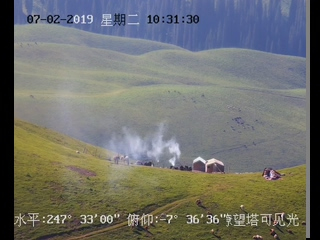smoke: (109, 122, 183, 167)
